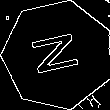N_E: (28, 30, 88, 80)
